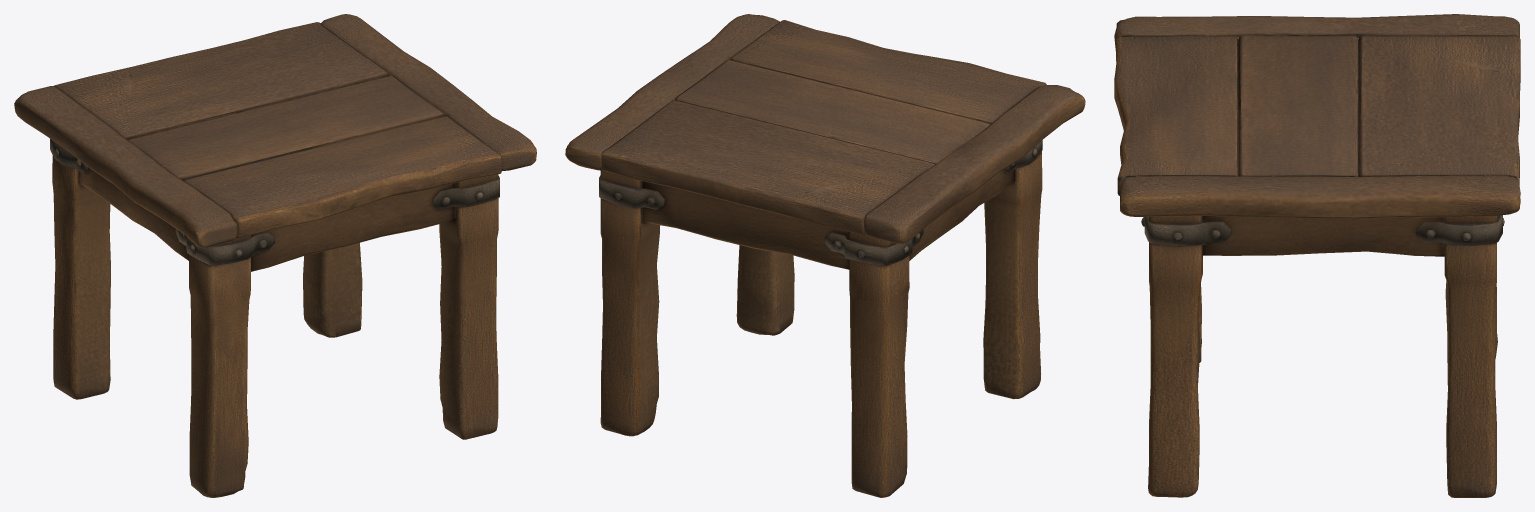
The model's file is chair.glb.
3 renders of one model, left to right at view 1: azimuth 30°, elevation 25°; view 2: azimuth 150°, elevation 25°; view 3: azimuth 270°, elevation 25°, orthographic. The views are drawn at different scales.
Visible parts, largest first — view 1: tripo_node_47f95304-9158-4918-8248-8e8e5e2d1487; view 2: tripo_node_47f95304-9158-4918-8248-8e8e5e2d1487; view 3: tripo_node_47f95304-9158-4918-8248-8e8e5e2d1487.
Boxes of the visible parts, left/top/right/bottom form: tripo_node_47f95304-9158-4918-8248-8e8e5e2d1487: left=14, top=14, right=536, bottom=497; tripo_node_47f95304-9158-4918-8248-8e8e5e2d1487: left=565, top=14, right=1085, bottom=497; tripo_node_47f95304-9158-4918-8248-8e8e5e2d1487: left=1114, top=14, right=1520, bottom=497.
Size of the model in its own units: 0.998 by 0.8145 by 0.9395.
Materials: 1 (1 with a texture image).
